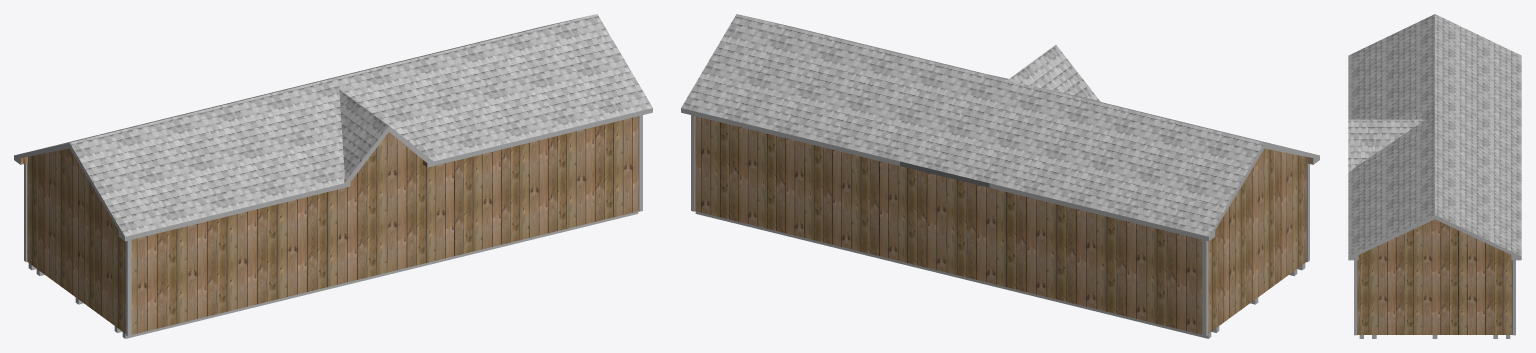
File: Victorian Shed_12x32.obj
3 views of the same model, side by side, from view 1: azimuth 30°, elevation 25°; view 2: azimuth 150°, elevation 25°; view 3: azimuth 270°, elevation 25° (orthographic). The views are drawn at different scales.
Parts seen in each view (by area): view 1: Shed, Roof, Sides, Floor, Trim; view 2: Shed, Roof, Sides, Floor, Trim; view 3: Roof, Shed, Sides, Trim.
Boxes of the visible parts, x1,y1,x2,y2 form: Shed: [20, 116, 638, 334]; Roof: [22, 14, 652, 236]; Sides: [14, 108, 652, 241]; Floor: [28, 211, 638, 338]; Trim: [24, 115, 642, 336]; Shed: [695, 116, 1313, 334]; Roof: [681, 14, 1311, 236]; Sides: [681, 108, 1319, 241]; Floor: [695, 211, 1305, 338]; Trim: [691, 115, 1309, 336]; Roof: [1348, 14, 1521, 256]; Shed: [1357, 219, 1512, 334]; Sides: [1348, 215, 1521, 260]; Trim: [1354, 260, 1515, 335].
Size of the model in its own units: 10.67 by 3.14 by 3.89.
